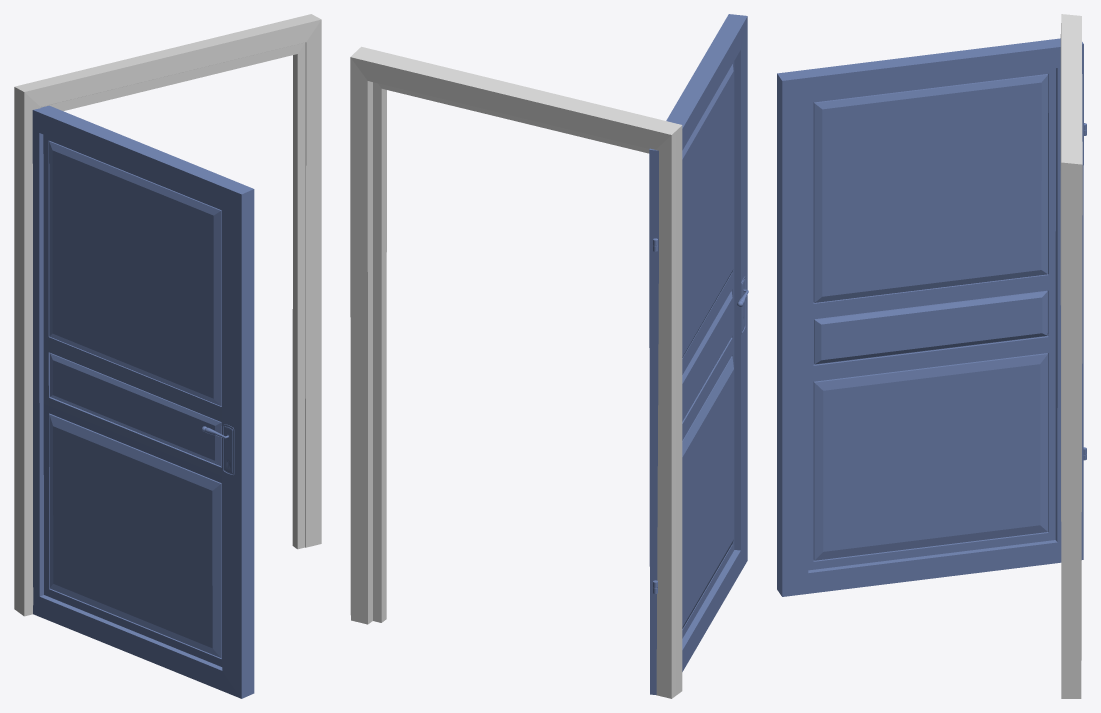
The model's file is door-part.glb.
3 views of the same model, side by side, from view 1: azimuth 30°, elevation 25°; view 2: azimuth 150°, elevation 25°; view 3: azimuth 270°, elevation 25° (orthographic). The views are drawn at different scales.
Visible parts, largest first — view 1: porte, encadrement-porte; view 2: encadrement-porte, porte; view 3: porte, encadrement-porte.
Boxes of the visible parts, left/top/right/bottom form: porte: left=32, top=105, right=254, bottom=698; encadrement-porte: left=14, top=14, right=321, bottom=616; encadrement-porte: left=350, top=46, right=682, bottom=698; porte: left=649, top=14, right=748, bottom=695; porte: left=777, top=38, right=1086, bottom=596; encadrement-porte: left=1060, top=14, right=1082, bottom=698.
Size of the model in its own units: 1.2 by 2.02 by 1.06.
